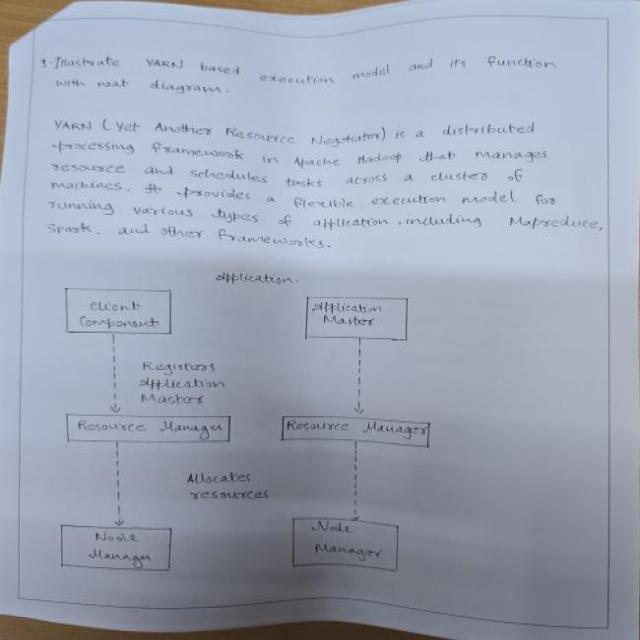Figure Detection - v3 Dataset Version2: (41, 257, 458, 588)
